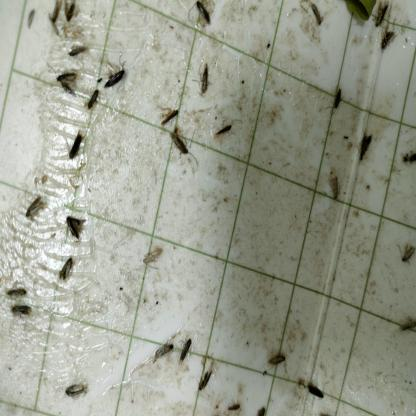prays_oleae: (141, 334, 178, 378), (171, 129, 197, 174), (27, 180, 51, 228), (104, 63, 132, 104), (63, 206, 87, 252), (66, 124, 87, 167), (212, 125, 242, 154), (393, 234, 416, 268), (332, 82, 350, 125), (195, 362, 215, 400), (324, 167, 340, 214), (54, 70, 78, 100), (4, 302, 34, 326), (62, 372, 93, 395), (141, 239, 165, 268), (191, 1, 210, 37), (264, 349, 288, 376), (309, 366, 327, 402), (194, 59, 210, 99), (154, 105, 185, 125), (56, 254, 75, 286), (356, 128, 372, 164), (381, 26, 402, 53), (394, 313, 416, 338), (372, 5, 392, 30), (307, 2, 323, 33), (180, 328, 191, 368), (85, 89, 103, 112), (1, 286, 27, 300), (66, 48, 90, 63), (227, 399, 243, 414)
